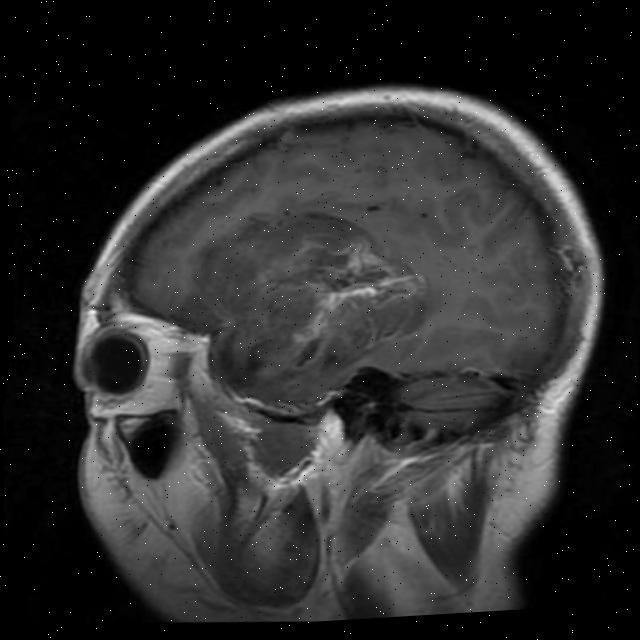Glioma: (215, 202, 430, 380)
